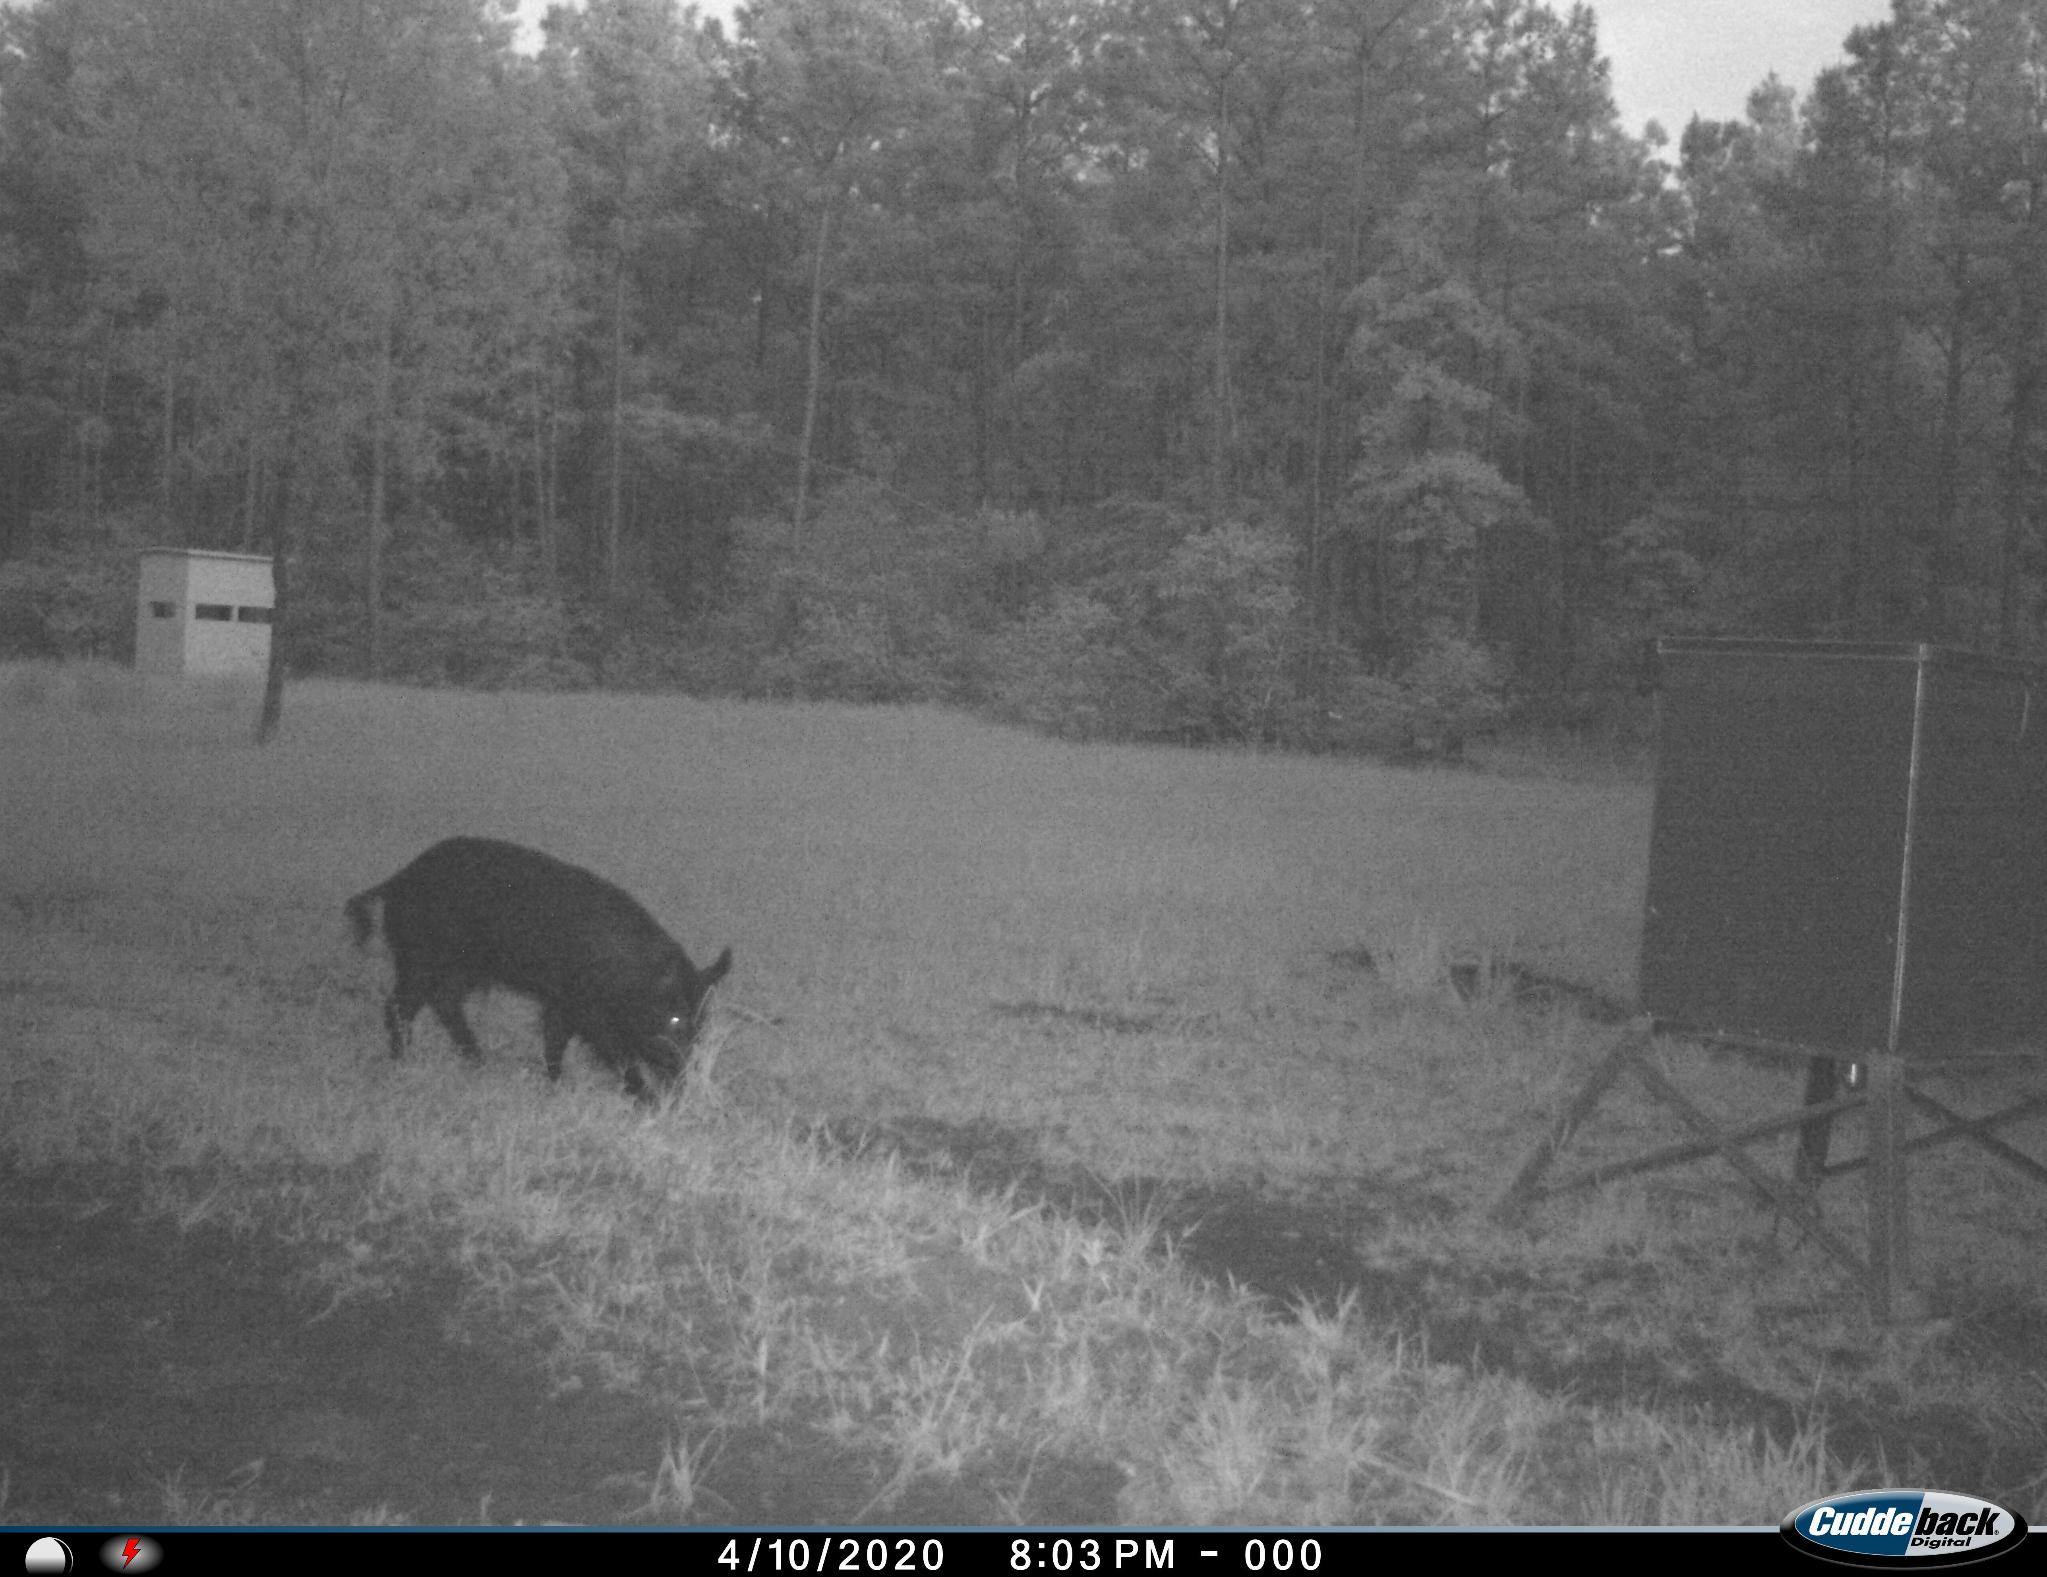Hog: (333, 828, 745, 1125)
